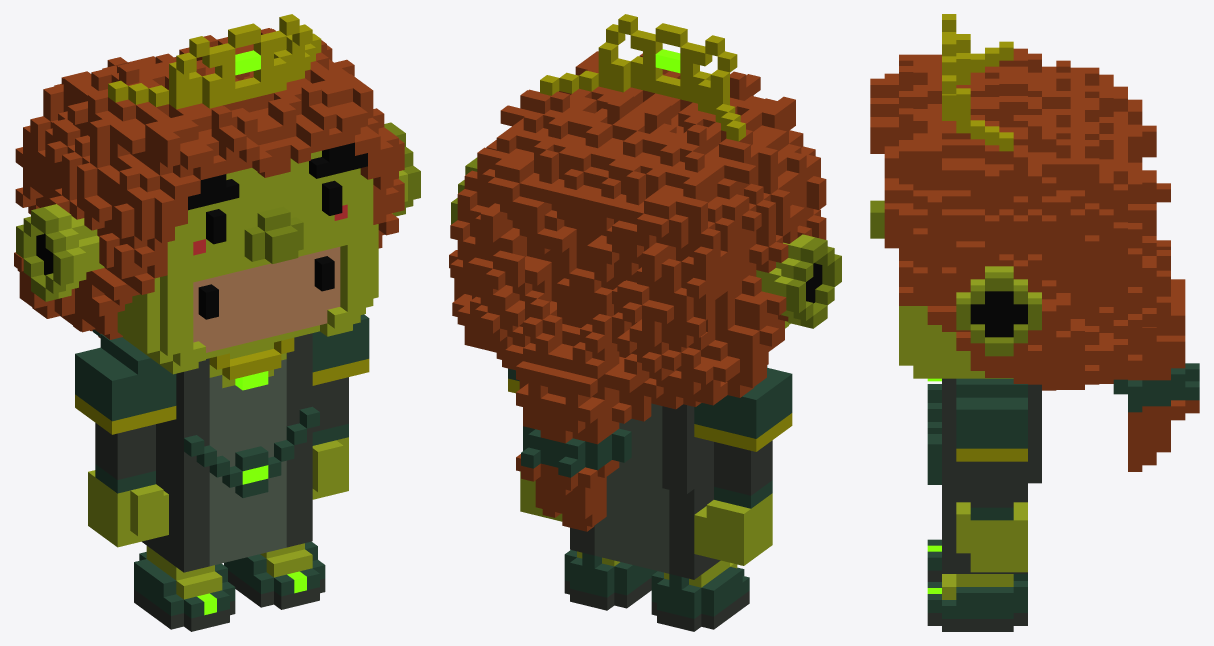
The model's file is asset.glb.
The picture shows the model from 3 angles, left to right: view 1: azimuth 30°, elevation 25°; view 2: azimuth 150°, elevation 25°; view 3: azimuth 270°, elevation 25°; orthographic projection. The views are drawn at different scales.
Visible parts, largest first — view 1: Cube.996; view 2: Cube.996; view 3: Cube.996.
Part boxes in pixels (x1=…): Cube.996: x1=14, y1=14, x2=420, y2=631; Cube.996: x1=449, y1=14, x2=841, y2=631; Cube.996: x1=870, y1=14, x2=1199, y2=631.
Size of the model in its own units: 28 by 43 by 23.
